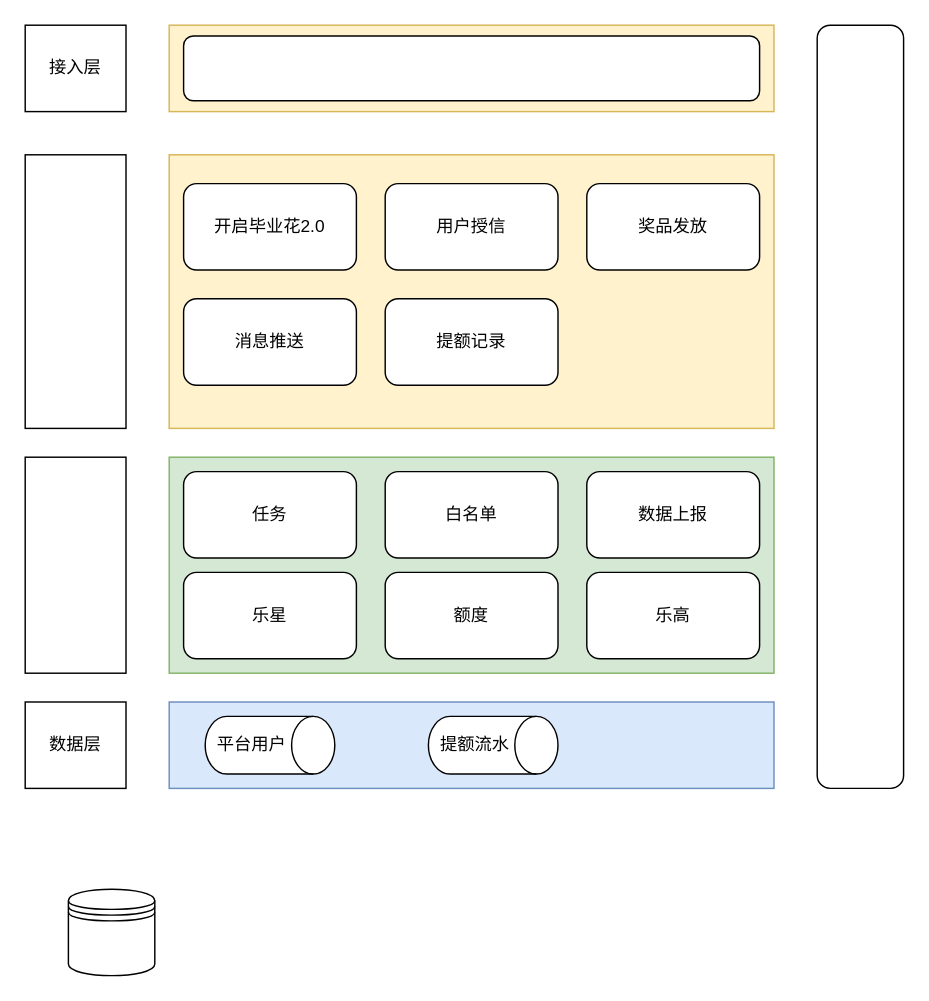
Some shapes in this 929 by 1001 pixel diagram are drawn without their labels. Each missing label, with the centre of its shape:
API网关: (471,68)
业务层: (75,290)
基础层: (75,564)
毕业花2.0: (860,406)
